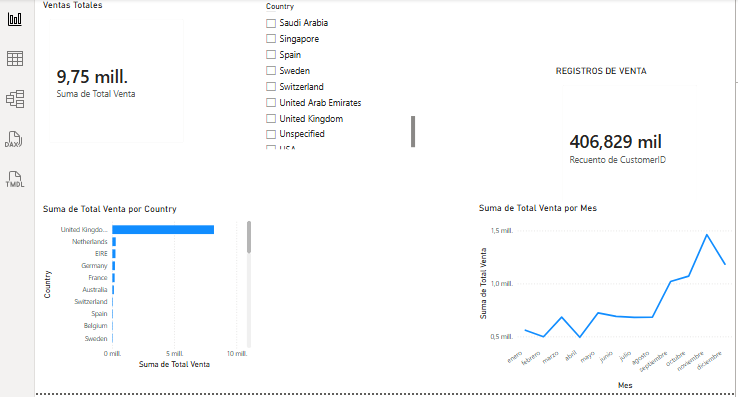

This screenshot's page, from the dashboard's own definition file:
{"tool":"powerbi","page":{"name":"Página 1","canvas":[1280,720],"ordinal":0},"visuals":[{"type":"cardVisual","title":"Ventas Totales","fields":{"Data":["Sum(Ventas.Total Venta)"]},"box":[10,0,280,280],"z":0},{"type":"cardVisual","title":"REGISTROS DE VENTA","fields":{"Data":["CountNonNull(Ventas.CustomerID)"]},"box":[947.2,120.7,281.6,279.8],"z":1000},{"type":"clusteredBarChart","fields":{"Category":["Ventas.Country"],"Y":["Sum(Ventas.Total Venta)"]},"box":[9.1,373,391.3,307.2],"z":1001},{"type":"lineChart","fields":{"Category":["Ventas.InvoiceDate.Variación.Jerarquía de fechas.Mes"],"Y":["Sum(Ventas.Total Venta)"]},"box":[806.4,373,473.6,347.4],"z":1002},{"type":"slicer","fields":{"Values":["Ventas.Country"]},"box":[410,0,280,280],"z":1003}]}

Visuals, with their boxes on the page's 1280x720 design canvas (x1, y1, x2, y2). These are canvas units, not pixel positions in the 738x397 screenshot, which may show the page scaled, cropped or inside an application window:
"Ventas Totales" cardVisual: 10,0,290,280
"REGISTROS DE VENTA" cardVisual: 947,121,1229,400
clusteredBarChart - Ventas.Country x Sum(Ventas.Total Venta): 9,373,400,680
lineChart - Ventas.InvoiceDate.Variación.Jerarquía de fechas.Mes x Sum(Ventas.Total Venta): 806,373,1280,720
slicer - Ventas.Country: 410,0,690,280
